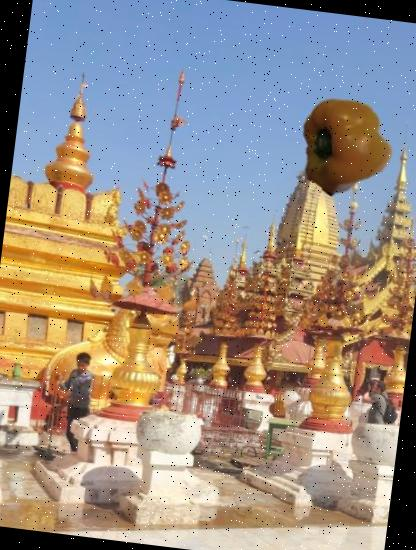Pepper: (290, 93, 397, 200)
